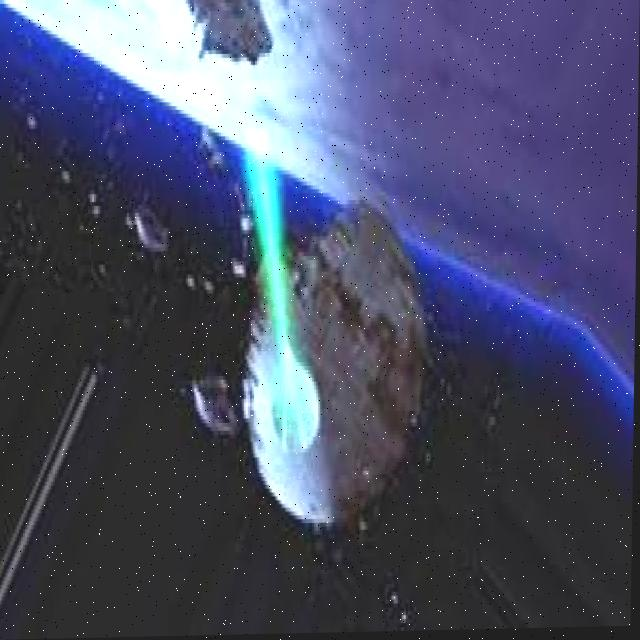deathstar: (244, 209, 429, 527)
